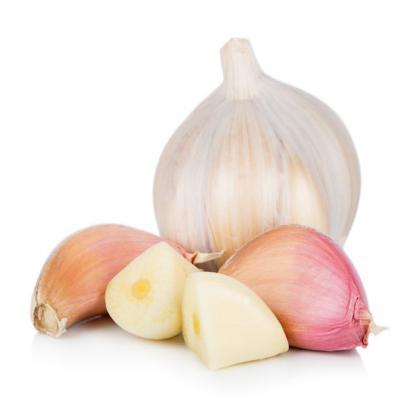garlic: (134, 37, 362, 272), (232, 216, 376, 345), (17, 212, 140, 324), (183, 263, 280, 378), (102, 225, 190, 340)
